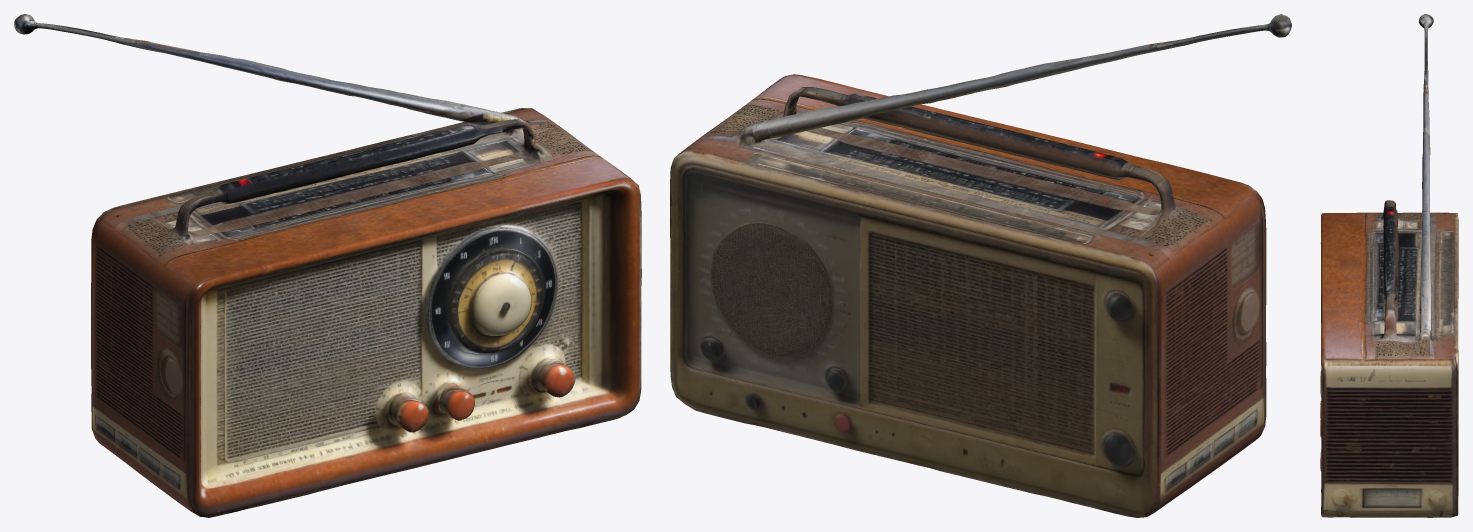
Rendered from radio.glb.
The picture shows the model from 3 angles, left to right: view 1: azimuth 30°, elevation 25°; view 2: azimuth 150°, elevation 25°; view 3: azimuth 270°, elevation 25°; orthographic projection. The views are drawn at different scales.
Bounding box in the file's own units: 1.99 × 1.68 × 0.6309.
Materials: 1 (1 with a texture image).
